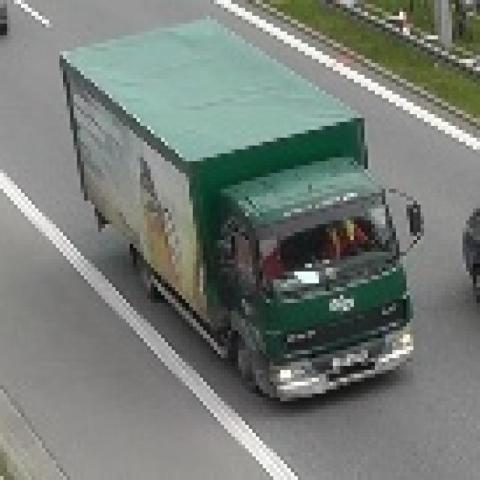truck: (63, 8, 431, 405)
